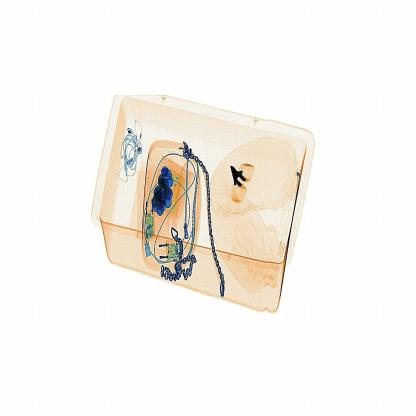gun: (225, 160, 265, 213)
